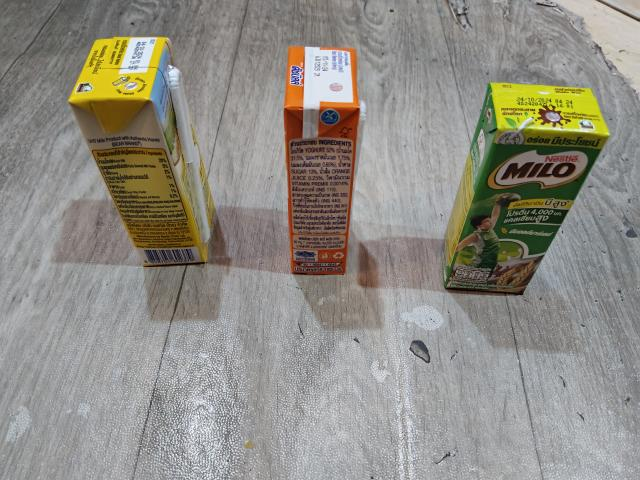drink_box: (61, 30, 228, 273), (437, 78, 614, 298), (281, 43, 362, 281)
